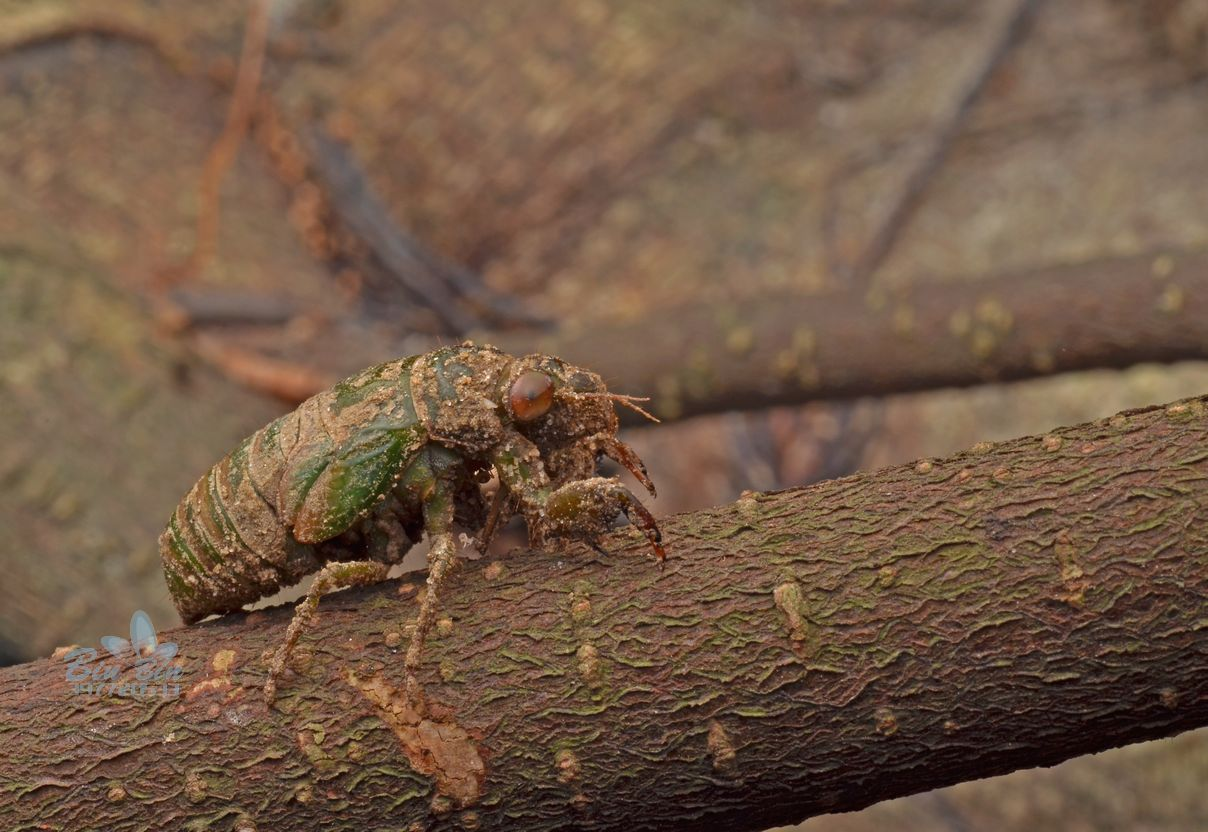chan: (169, 333, 667, 600)
